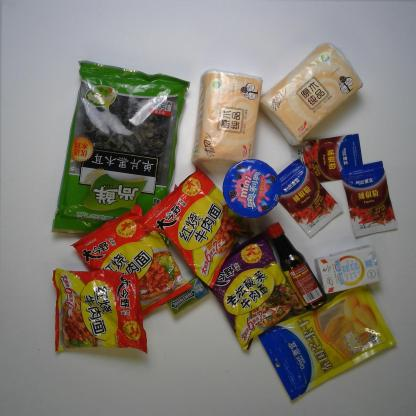Dessert: (222, 159, 282, 218)
Dried Food: (51, 60, 191, 236)
Dried Fruit: (257, 284, 398, 403)
Gum: (166, 277, 210, 316)
Instant Noodles: (141, 164, 254, 289), (70, 204, 192, 317), (206, 230, 309, 351), (51, 268, 148, 355)
Milk: (314, 244, 383, 295)
Seasoner: (266, 221, 327, 311), (278, 158, 343, 238), (340, 160, 398, 238), (290, 133, 363, 183)
Tissue: (260, 42, 364, 146), (190, 68, 263, 174)
